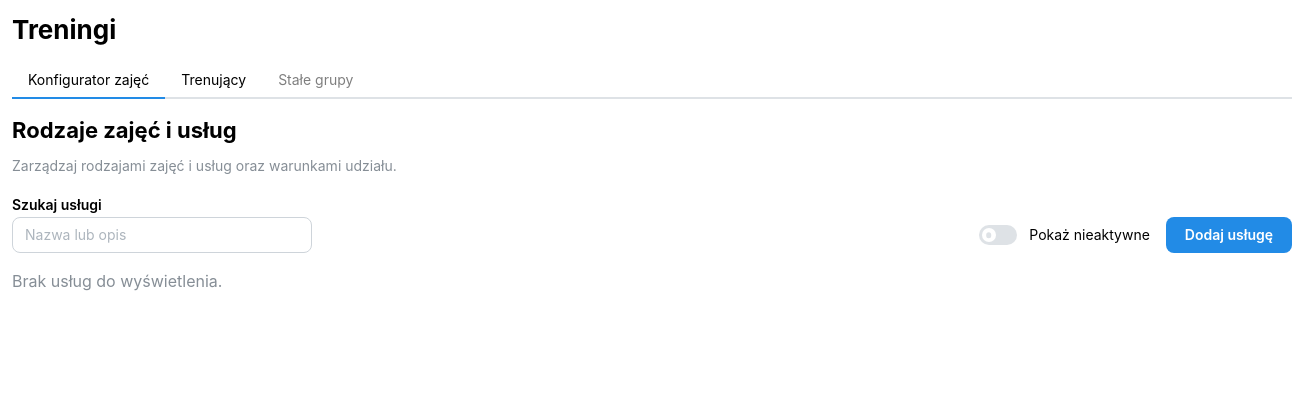
Scenario: lists the studio participants with a button to assign a trainer
What coordinates should you click on to do the following:
click the tab "Trenujący"
I would click on:
 (214, 81)
Its box is [165,63,262,99].
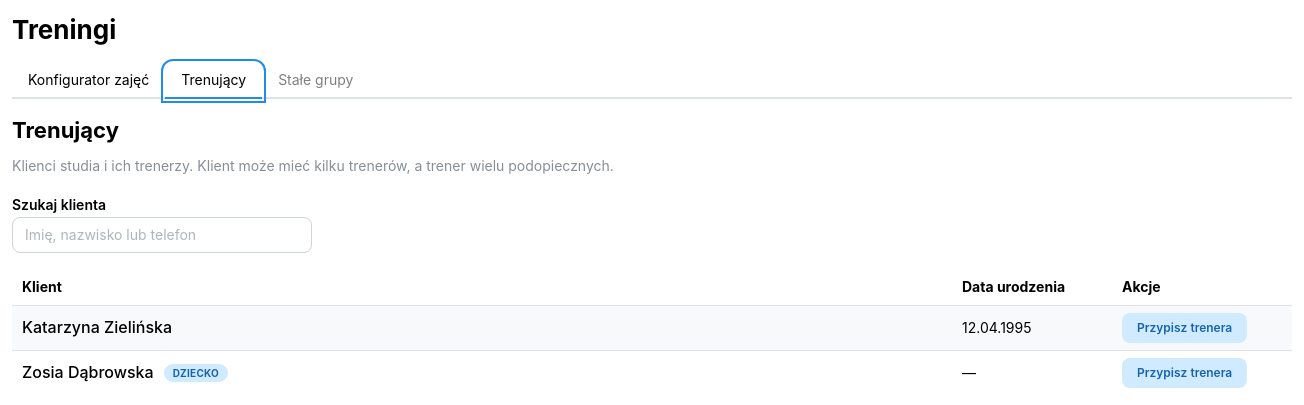
Check: the text "dziecko" is shown, box [173,365,219,381]
Check: the button "Przypisz trenera" in the row of "Zosia Dąbrowska" is shown, box [1122,358,1247,388]
Check: the text "12.04.1995" is shown, box [952,305,1112,350]
